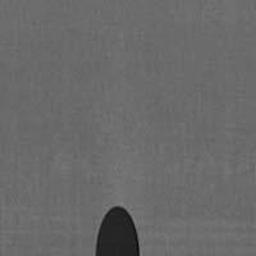Punching: (93, 206, 140, 256)
